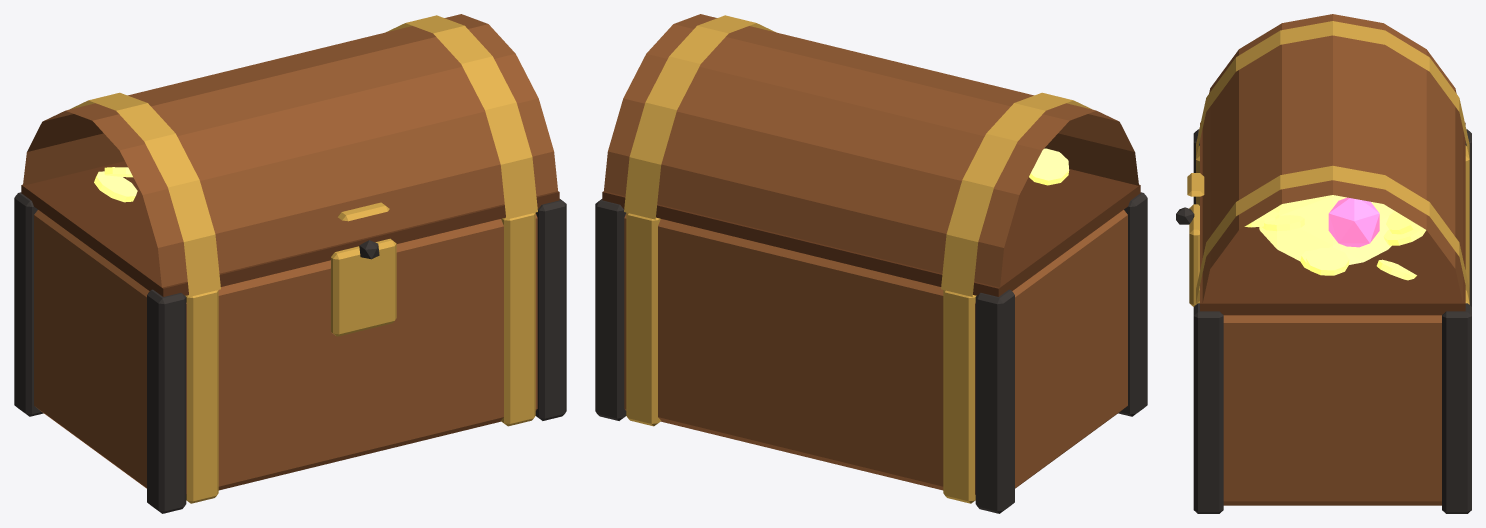
The model's file is isle_chest_v01.glb.
The picture shows the model from 3 angles, left to right: view 1: azimuth 30°, elevation 25°; view 2: azimuth 150°, elevation 25°; view 3: azimuth 270°, elevation 25°; orthographic projection. The views are drawn at different scales.
Visible parts, largest first — view 1: chest_base, chest_lid; view 2: chest_base, chest_lid; view 3: chest_base, chest_lid.
Boxes of the visible parts, left/top/right/bottom form: chest_base: left=14, top=167, right=566, bottom=513; chest_lid: left=21, top=14, right=559, bottom=296; chest_base: left=595, top=148, right=1147, bottom=513; chest_lid: left=602, top=14, right=1140, bottom=296; chest_base: left=1189, top=129, right=1471, bottom=513; chest_lid: left=1176, top=14, right=1469, bottom=315.
Size of the model in its own units: 1.03 by 0.83 by 0.6913.
